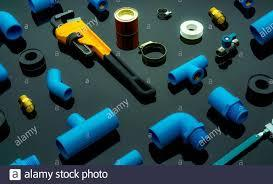wrench: (48, 8, 156, 100)
